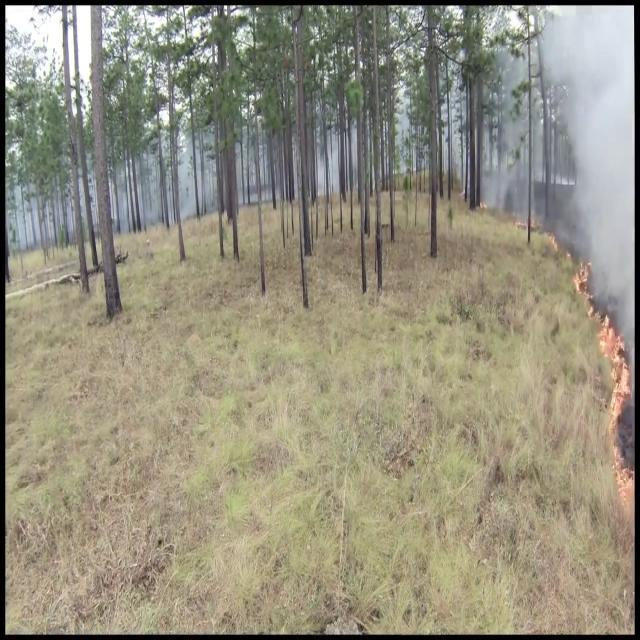Smoke: (550, 5, 634, 360)
